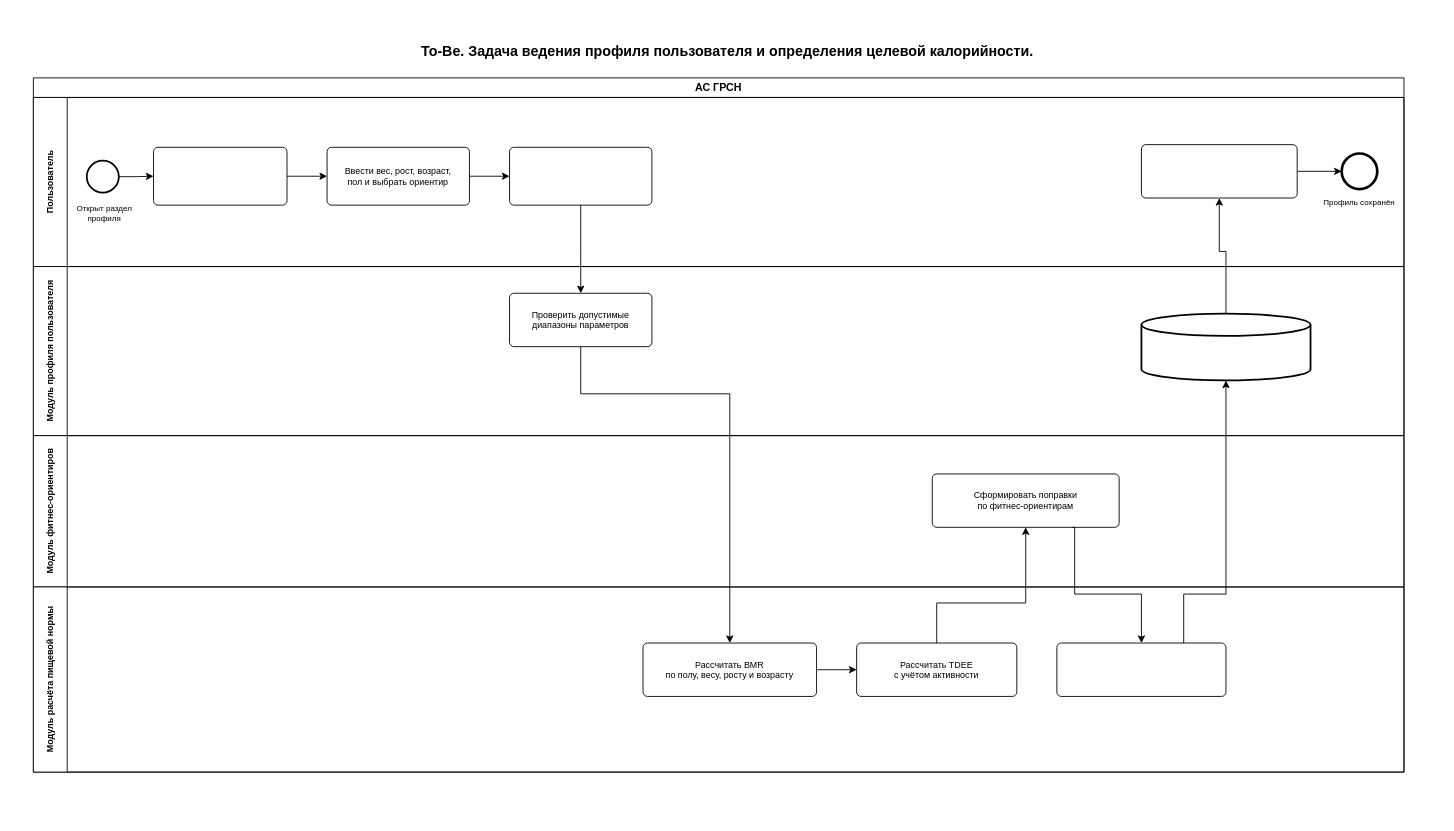
Image size: 1454x831. Some labels were removed from this diagram. The centre of each missing label's shape, as x and y in pixels:
"Определить целевую норму и доли БЖУ по ориентиру" belongs at (1141,669).
"Открыть страницу профиля" belongs at (220,175).
"Просмотреть профиль, норму и историю замеров" belongs at (1219,171).
"Сохранить профиль; при смене параметров — замер в историю" belongs at (1225,346).
"Указать уровень активности" belongs at (580,175).
